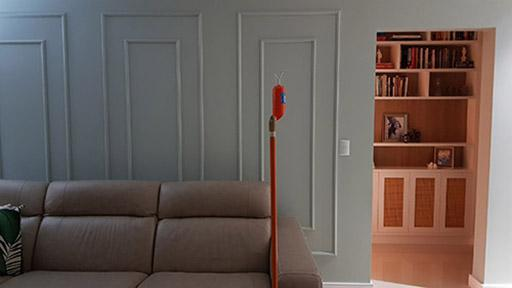Detector_Tensao_Contato: (271, 71, 287, 123)
Vara_Manobra: (267, 120, 279, 288)
